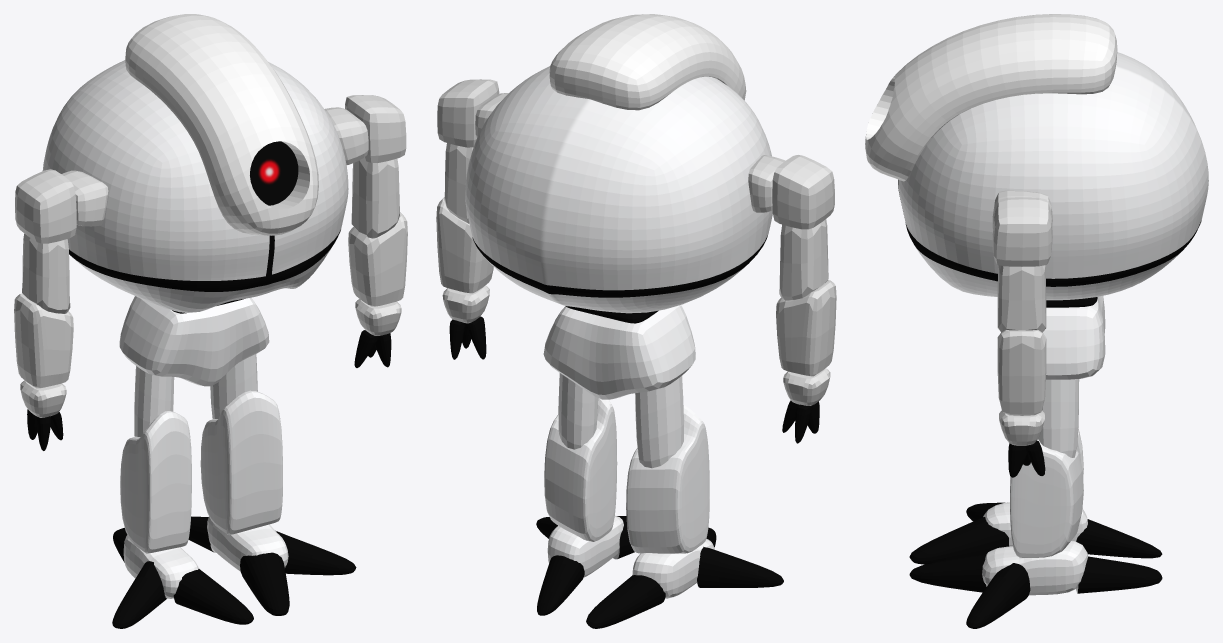
The model's file is giroDBGT.glb.
The picture shows the model from 3 angles, left to right: view 1: azimuth 30°, elevation 25°; view 2: azimuth 150°, elevation 25°; view 3: azimuth 270°, elevation 25°; orthographic projection.
Visible parts, largest first — view 1: Cintura hasta pies, Cuerpo, Brazos, Cabeza, Dedos; view 2: Cuerpo, Cintura hasta pies, Brazos, Cabeza, Dedos; view 3: Cuerpo, Cintura hasta pies, Cabeza, Brazos, Dedos.
Boxes of the visible parts, bbox=[...] form: Cintura hasta pies: bbox=[112, 296, 356, 628]; Cuerpo: bbox=[42, 60, 348, 312]; Brazos: bbox=[14, 95, 407, 417]; Cabeza: bbox=[125, 14, 318, 235]; Dedos: bbox=[27, 330, 391, 450]; Cuerpo: bbox=[465, 66, 772, 313]; Cintura hasta pies: bbox=[536, 305, 783, 628]; Brazos: bbox=[436, 79, 836, 405]; Cabeza: bbox=[549, 14, 746, 110]; Dedos: bbox=[449, 316, 819, 443]; Cuerpo: bbox=[898, 52, 1208, 300]; Cintura hasta pies: bbox=[909, 296, 1162, 628]; Cabeza: bbox=[865, 14, 1117, 181]; Brazos: bbox=[992, 190, 1052, 445]; Dedos: bbox=[1008, 440, 1045, 477].
Bounding box in the file's own units: 4.33 × 5.9 × 3.34.
3 materials, 1 textured.
